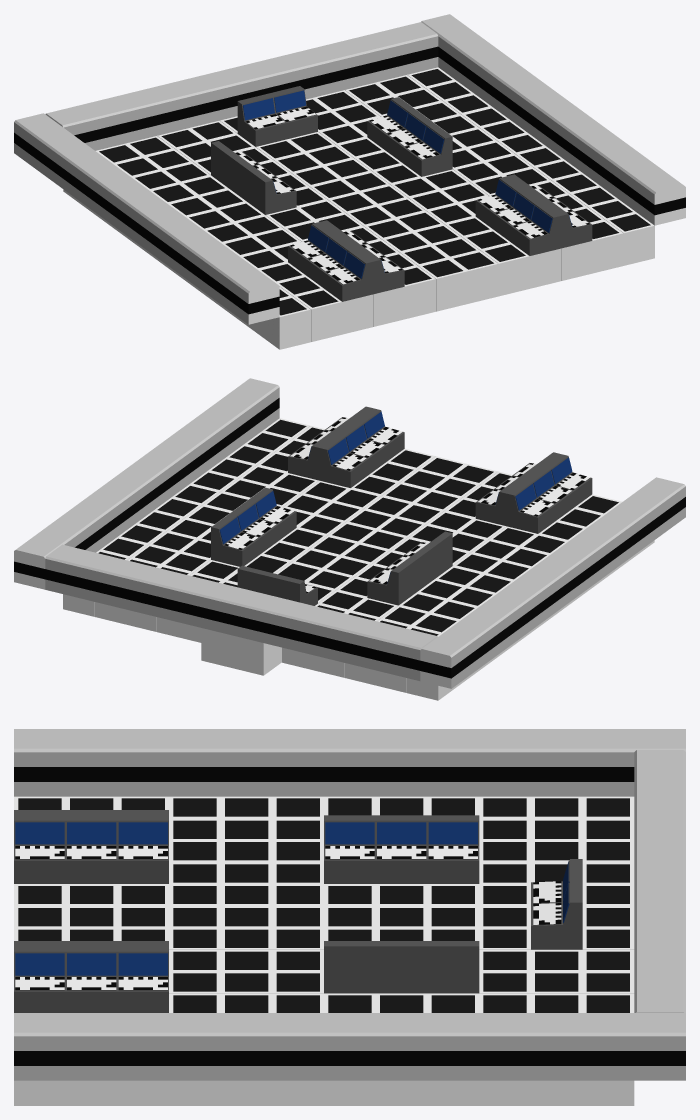
The model's file is bridgeSmall2.fbx.
3 renders of one model, top to bottom at view 1: azimuth 30°, elevation 25°; view 2: azimuth 150°, elevation 25°; view 3: azimuth 270°, elevation 25°, orthographic. The views are drawn at different scales.
Visible parts, largest first — view 1: Cube.183, Cube.192, Cube.011, Cube.002, Cube.007, Cube.159, Cube.189, Cube.164, Cube.020, Cube.015, Cube.019, Cube.024 (+128 smaller); view 2: Cube.187, Cube.186, Cube.158, Cube.008, Cube.163, Cube.173, Cube.001, Cube.162, Cube.166, Cube.168, Cube.171, Cube.188 (+123 smaller); view 3: Cube.004, Cube.163, Cube.174, Cube.176, Cube.179, Cube.182, Cube.193, Cube.202, Cube.205, Cube.207, Cube.005, Cube.006 (+136 smaller).
Part boxes in pixels (box(x1,y1,x2,y2)): Cube.183: box(230, 272, 279, 324); Cube.192: box(636, 172, 685, 225); Cube.011: box(237, 93, 286, 146); Cube.002: box(261, 296, 310, 349); Cube.007: box(324, 248, 373, 301); Cube.159: box(403, 123, 452, 176); Cube.189: box(511, 202, 560, 255); Cube.164: box(247, 167, 296, 214); Cube.020: box(418, 258, 467, 311); Cube.015: box(293, 289, 342, 341); Cube.019: box(481, 243, 529, 296); Cube.024: box(606, 212, 654, 265); Cube.187: box(420, 636, 469, 688); Cube.186: box(319, 434, 368, 487); Cube.158: box(211, 514, 260, 566); Cube.008: box(507, 480, 556, 533); Cube.163: box(367, 558, 416, 605); Cube.173: box(389, 628, 437, 680); Cube.001: box(232, 590, 280, 642); Cube.162: box(45, 544, 93, 597); Cube.166: box(264, 598, 311, 650); Cube.168: box(170, 575, 217, 627); Cube.171: box(295, 605, 343, 658); Cube.188: box(14, 536, 62, 589); Cube.004: box(65, 815, 117, 883); Cube.163: box(427, 815, 479, 883); Cube.174: box(582, 729, 634, 796); Cube.176: box(427, 729, 479, 796); Cube.179: box(220, 729, 272, 796); Cube.182: box(65, 729, 117, 796); Cube.193: box(65, 1013, 117, 1080); Cube.202: box(220, 1013, 272, 1080); Cube.205: box(427, 1013, 479, 1080); Cube.207: box(582, 1013, 634, 1080); Cube.005: box(14, 815, 65, 883); Cube.006: box(117, 815, 168, 883).
Size of the model in its own units: 2800 by 400 by 2600.
